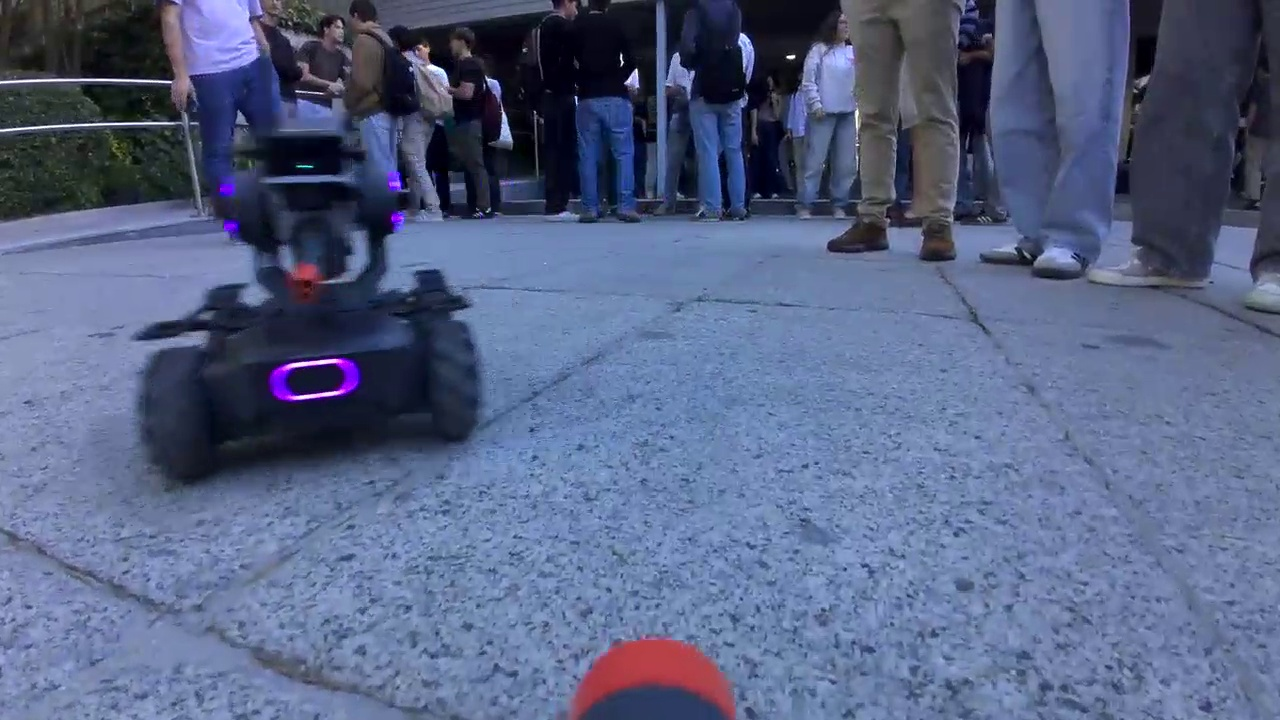robot: (130, 128, 484, 485)
